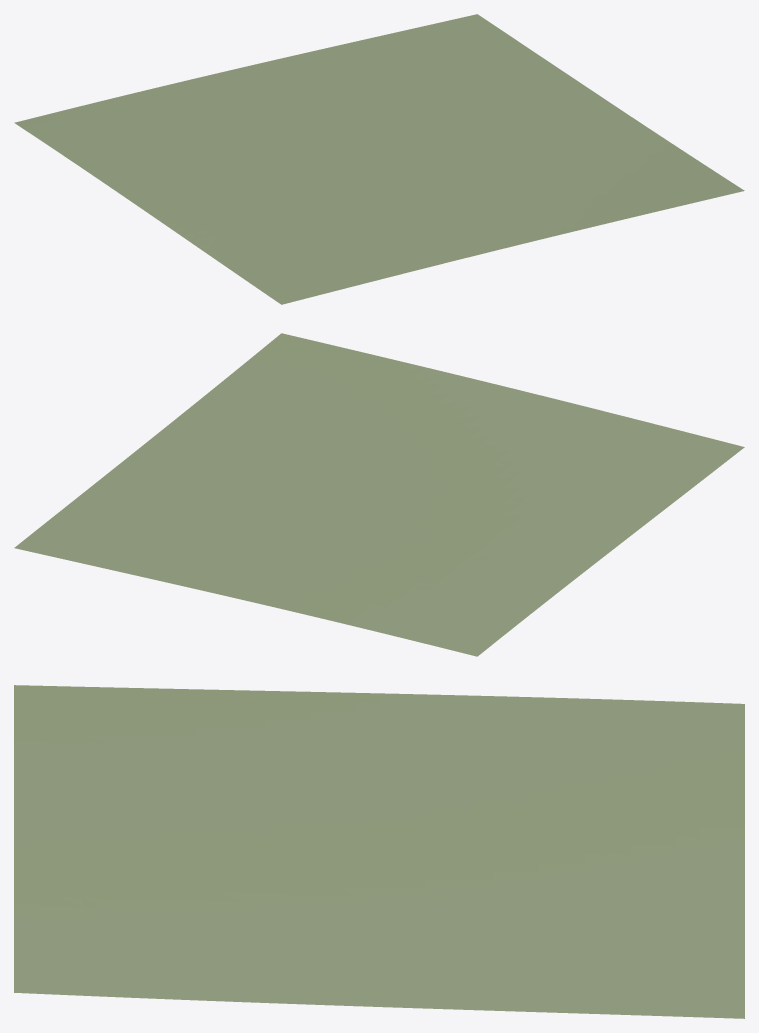
Rendered from expanse-4-10.glb.
3 views of the same model, one above another, from view 1: azimuth 30°, elevation 25°; view 2: azimuth 150°, elevation 25°; view 3: azimuth 270°, elevation 25° (orthographic). The views are drawn at different scales.
Parts seen in each view (by area): view 1: expanse-4-10; view 2: expanse-4-10; view 3: expanse-4-10.
Part boxes in pixels (bbox=[...]): expanse-4-10: bbox=[14, 14, 744, 304]; expanse-4-10: bbox=[14, 333, 744, 656]; expanse-4-10: bbox=[14, 685, 744, 1018].
Bounding box in the file's own units: 256 × 10.67 × 256.
